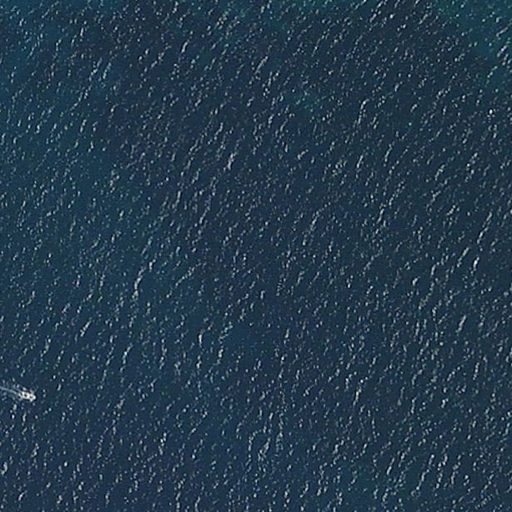ship: (17, 390, 37, 404)
